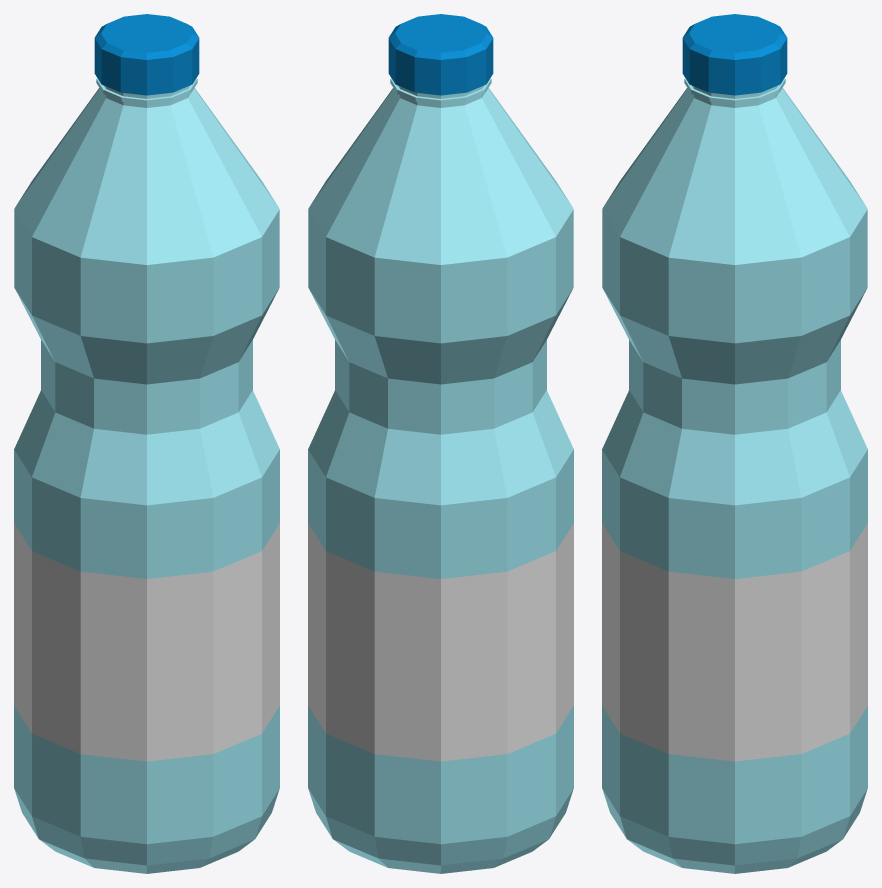
The model's file is WaterBottle.fbx.
3 renders of one model, left to right at view 1: azimuth 30°, elevation 25°; view 2: azimuth 150°, elevation 25°; view 3: azimuth 270°, elevation 25°, orthographic.
Visible parts, largest first — view 1: Cylinder; view 2: Cylinder; view 3: Cylinder.
Part boxes in pixels (<box>): Cylinder: <box>14,14,279,873</box>; Cylinder: <box>308,14,573,873</box>; Cylinder: <box>602,14,867,873</box>.
Bounding box in the file's own units: 40 × 132 × 40.
